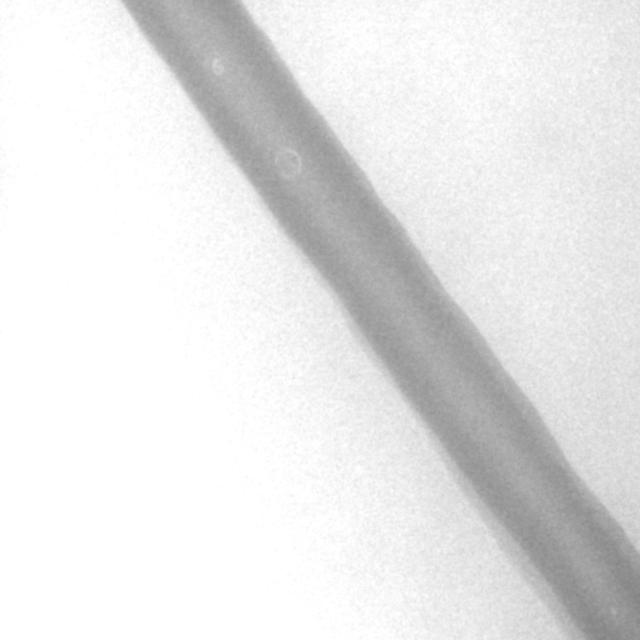air hole: (607, 604, 618, 617)
hollow bead: (271, 147, 303, 181)
